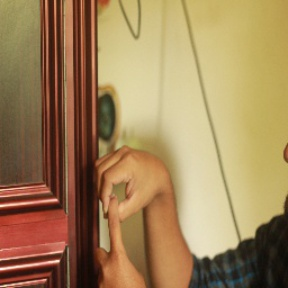Q: (85, 146, 174, 288)
